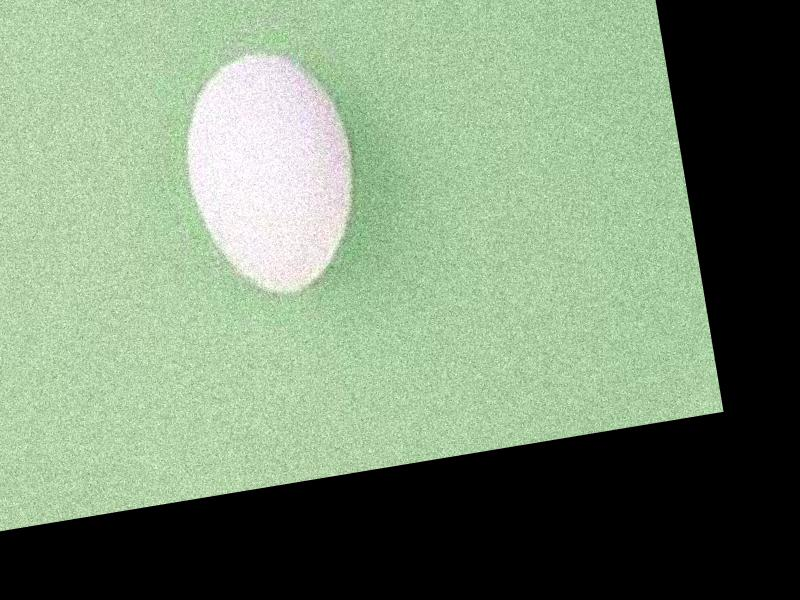Eggs: (171, 38, 373, 305)
